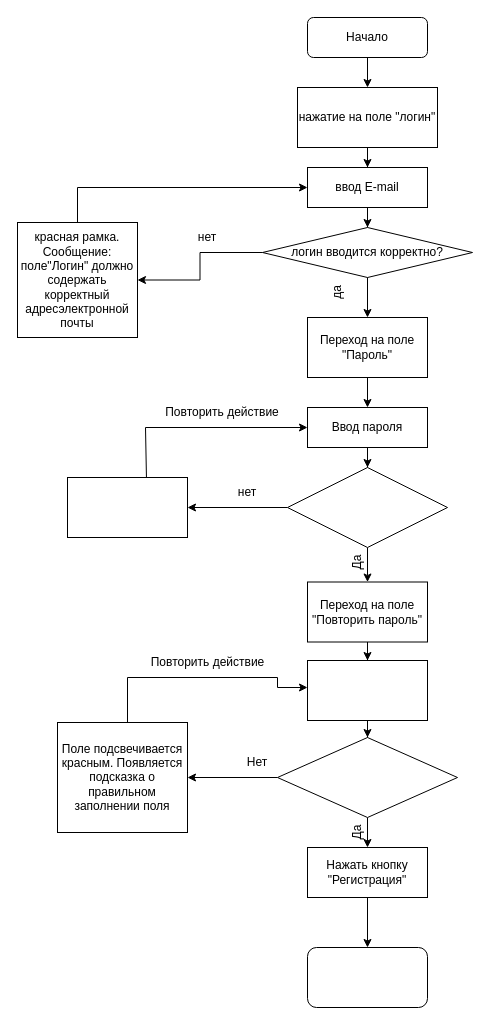
Image size: 490x1025. Some labels were removed from this diagram. Each missing label, with the centre of its shape:
"Ввод повторного пароля" goes at point (367, 690).
"Конец" goes at point (367, 977).
"пароль введен корректно?" goes at point (367, 507).
"Повторный пароль соответствует изначальному?" goes at point (367, 777).
"Поле подствечивается красным.Появляется подсказка" goes at point (127, 507).
